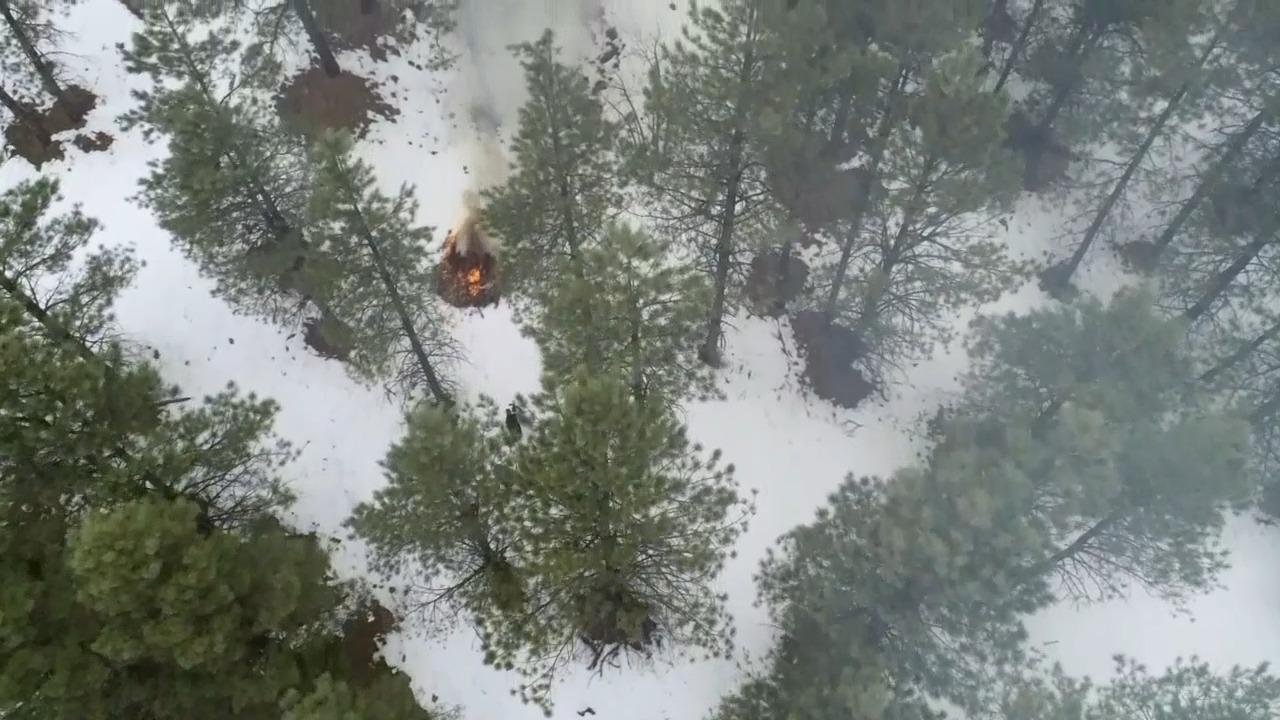fire: (454, 259, 489, 301)
